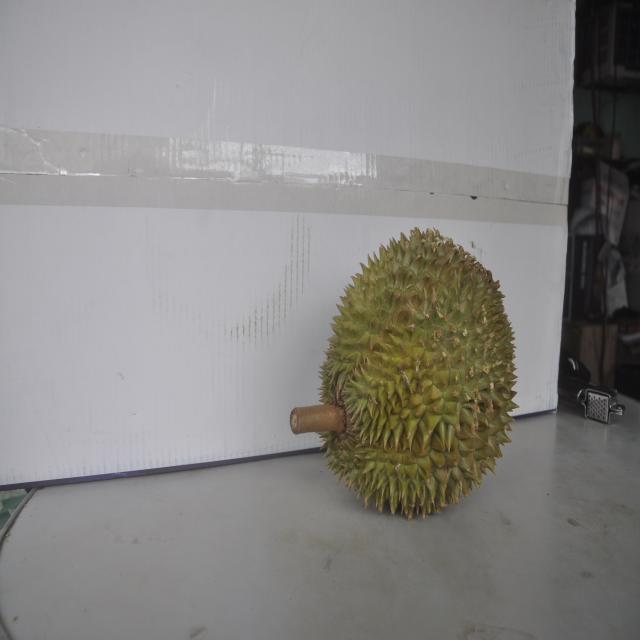mature: (320, 225, 520, 520)
